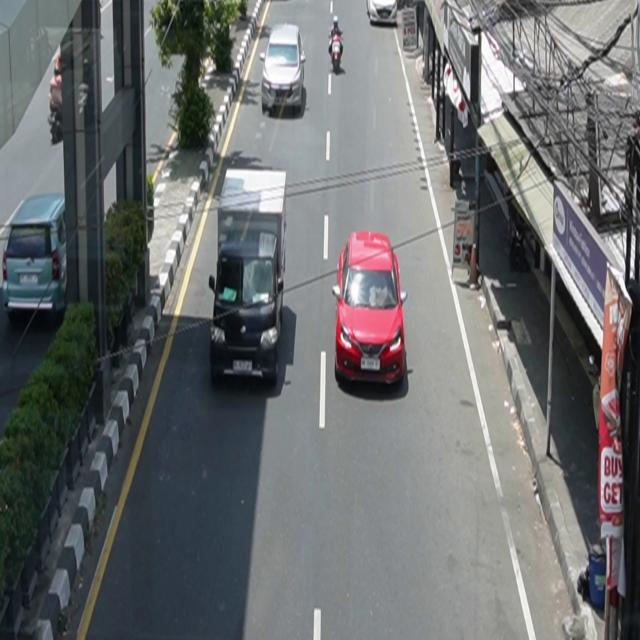car: (333, 231, 408, 387), (2, 193, 68, 323), (260, 23, 307, 116), (366, 1, 398, 26)
truck: (209, 167, 288, 386)
